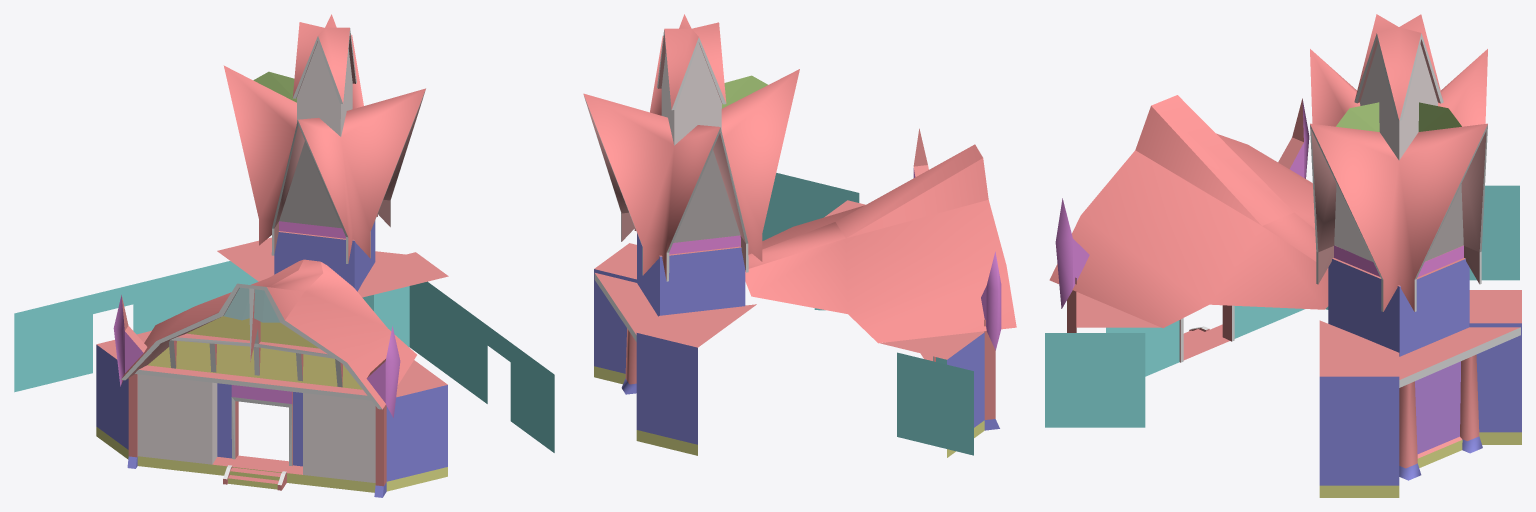
The picture shows the model from 3 angles, left to right: view 1: azimuth 30°, elevation 25°; view 2: azimuth 150°, elevation 25°; view 3: azimuth 270°, elevation 25°; orthographic projection. The views are drawn at different scales.
Parts seen in each view (by area): view 1: O_DE_SH; view 2: O_DE_SH; view 3: O_DE_SH.
Part boxes in pixels (x1,y1,x2,y2): O_DE_SH: [14, 14, 554, 497]; O_DE_SH: [583, 14, 1016, 457]; O_DE_SH: [1045, 14, 1521, 497].
Bounding box in the file's own units: 7.55 × 7.2 × 7.39.
